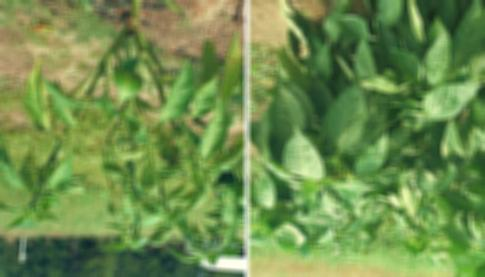Tomato leaf bacterial spot: (433, 0, 485, 88), (316, 86, 369, 160), (421, 78, 485, 122), (282, 124, 326, 185), (160, 56, 200, 123), (212, 31, 244, 113), (21, 52, 51, 134), (199, 99, 233, 170), (353, 125, 392, 177), (351, 33, 380, 90), (426, 28, 451, 87), (114, 55, 145, 102), (337, 10, 377, 45), (45, 154, 78, 194), (442, 121, 468, 161), (376, 0, 404, 33), (136, 210, 167, 224)
